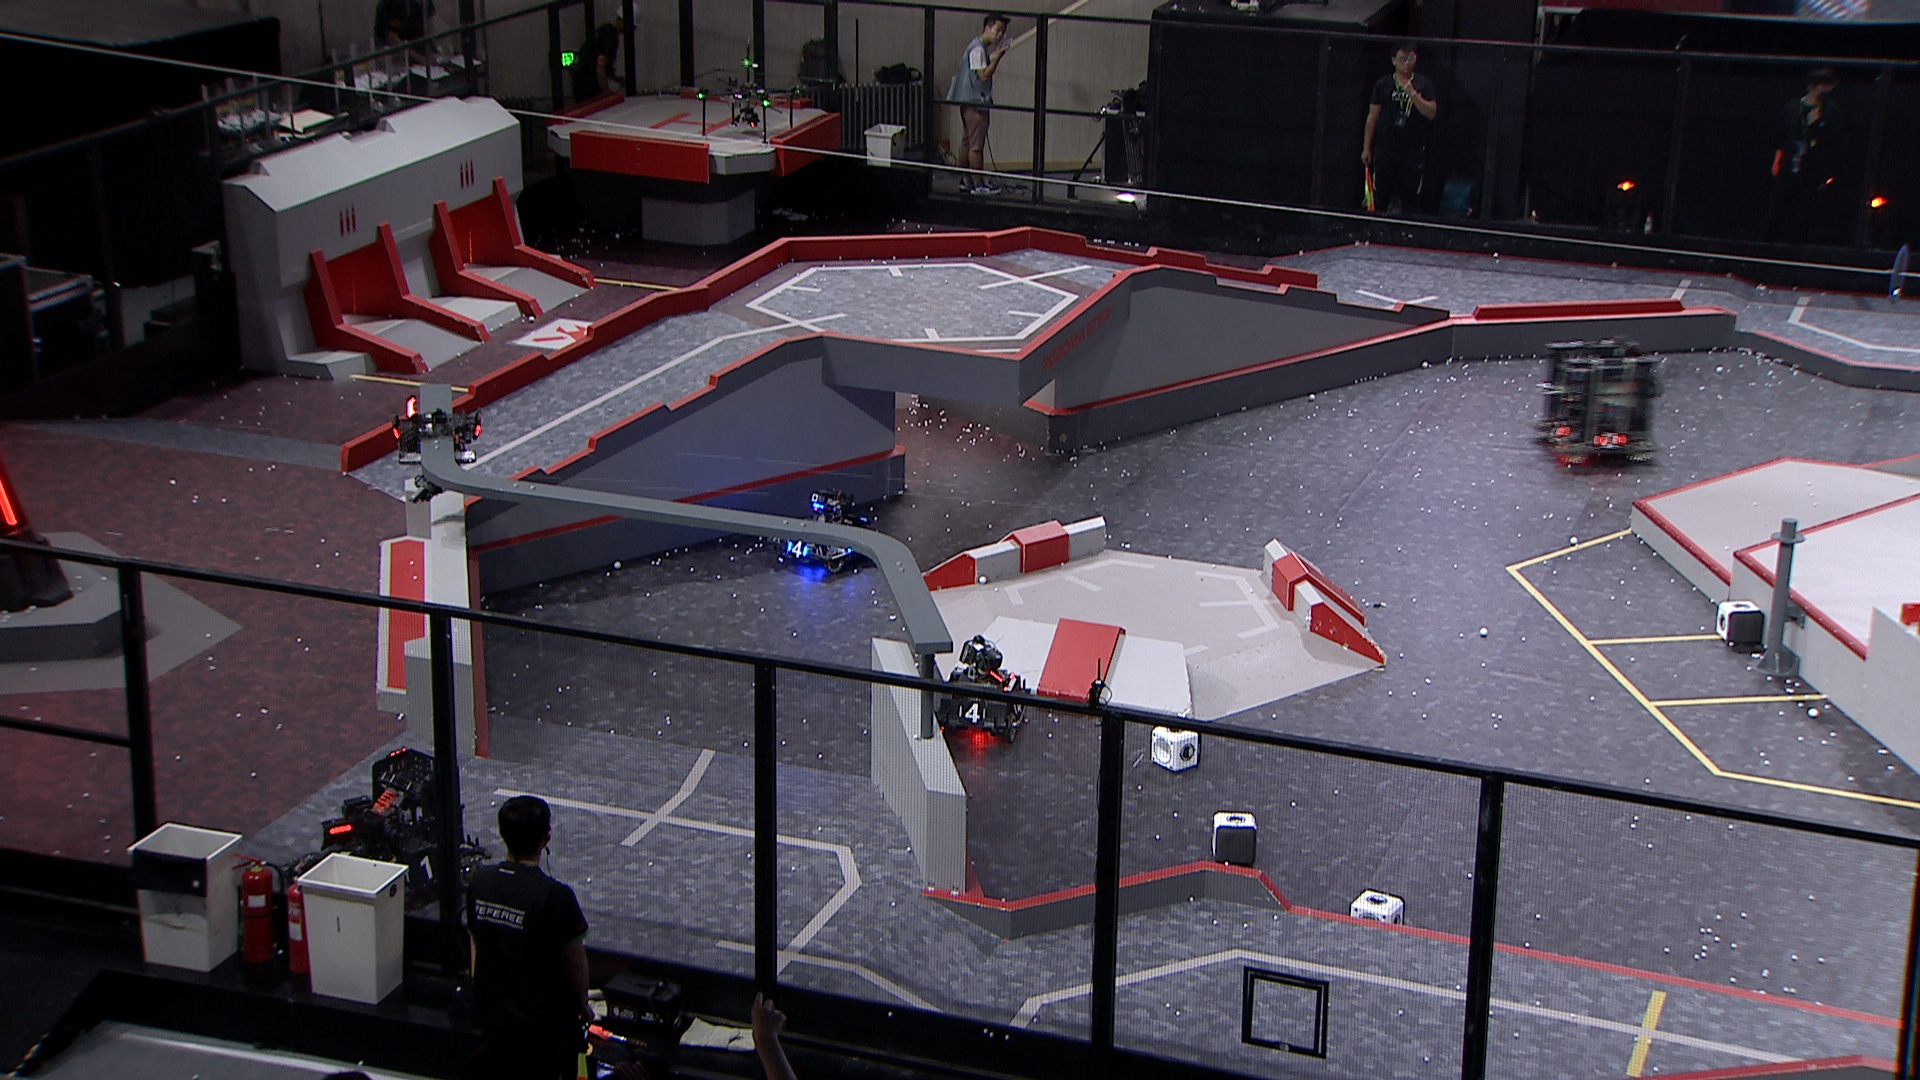armor: (0, 480, 21, 531), (404, 855, 436, 884), (957, 700, 988, 725), (1596, 431, 1629, 451), (1544, 419, 1572, 440), (789, 541, 811, 560)
car: (290, 742, 495, 916), (1536, 338, 1662, 469), (932, 632, 1031, 742), (775, 487, 880, 575)
watcher: (392, 396, 483, 506)
